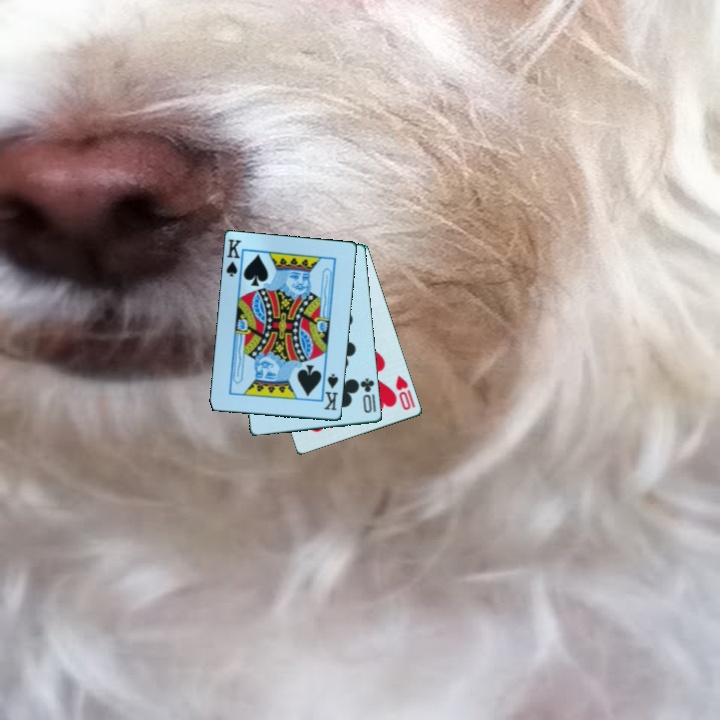10c: (357, 375, 377, 416)
10h: (392, 372, 418, 413)
Ks: (223, 236, 245, 283), (321, 370, 342, 413)
